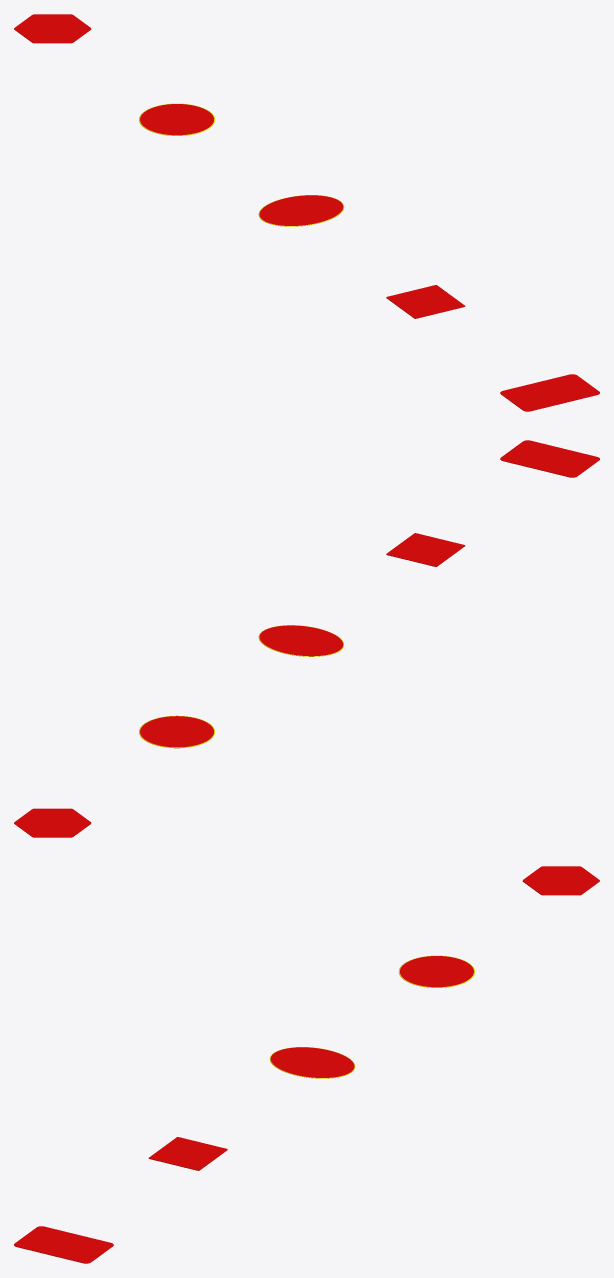
File: placemats_grp.fbx
The picture shows the model from 3 angles, top to bottom: view 1: azimuth 30°, elevation 25°; view 2: azimuth 150°, elevation 25°; view 3: azimuth 330°, elevation 25°; orthographic projection.
Parts seen in each view (by area): view 1: placemat_1, placemat_3, placemat_4, placemat_5, placemat_2; view 2: placemat_1, placemat_3, placemat_4, placemat_5, placemat_2; view 3: placemat_1, placemat_3, placemat_4, placemat_5, placemat_2.
Boxes of the visible parts, x1,y1,x2,y2 form: placemat_1: (500, 374, 599, 411); placemat_3: (258, 195, 343, 226); placemat_4: (139, 103, 215, 135); placemat_5: (14, 14, 91, 43); placemat_2: (386, 285, 465, 318); placemat_1: (500, 440, 599, 477); placemat_3: (258, 625, 343, 656); placemat_4: (139, 715, 214, 748); placemat_5: (14, 808, 91, 837); placemat_2: (386, 533, 465, 566); placemat_1: (14, 1226, 113, 1263); placemat_3: (270, 1047, 355, 1078); placemat_4: (398, 955, 474, 987); placemat_5: (522, 866, 599, 895); placemat_2: (148, 1137, 227, 1170).
Bounding box in the file's own units: 36.42 × 0.2624 × 427.
